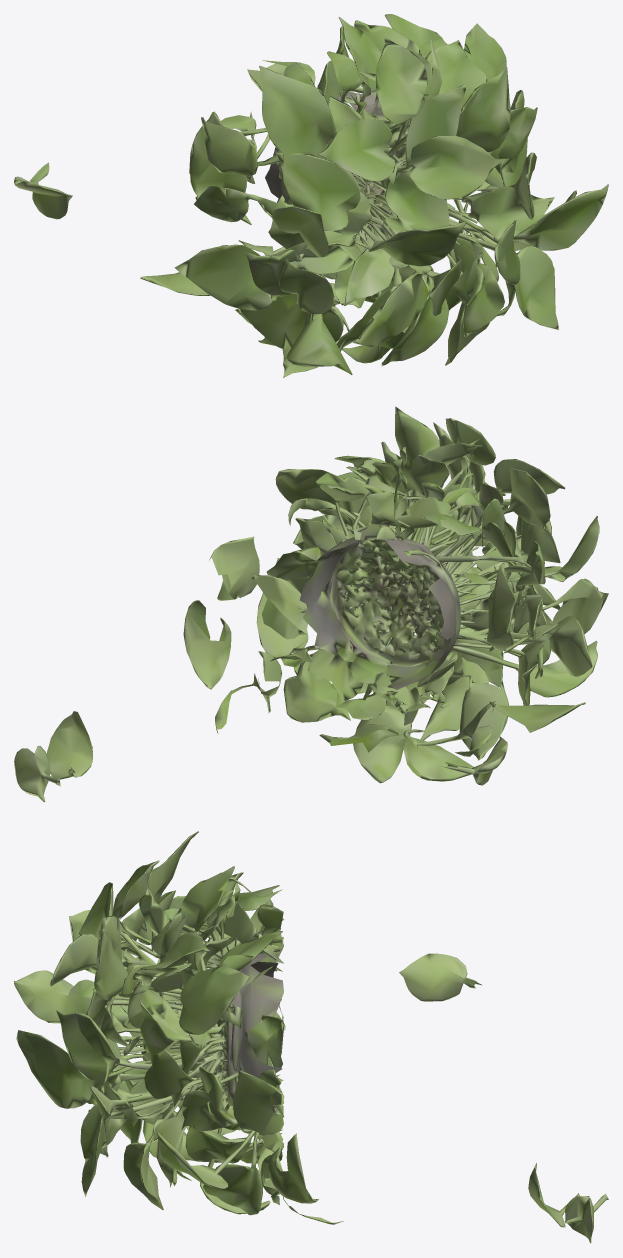
The model's file is pothos-cloth.glb.
3 renders of one model, top to bottom at view 1: azimuth 30°, elevation 25°; view 2: azimuth 150°, elevation 25°; view 3: azimuth 270°, elevation 25°, orthographic. The views are drawn at different scales.
Parts seen in each view (by area): view 1: pothos cloth; view 2: pothos cloth; view 3: pothos cloth.
Boxes of the visible parts, box(x1,y1,x2,y2) form: pothos cloth: box(14, 14, 608, 377); pothos cloth: box(14, 406, 608, 802); pothos cloth: box(14, 831, 608, 1243).
Size of the model in its own units: 0.2537 by 0.1924 by 0.3062.
